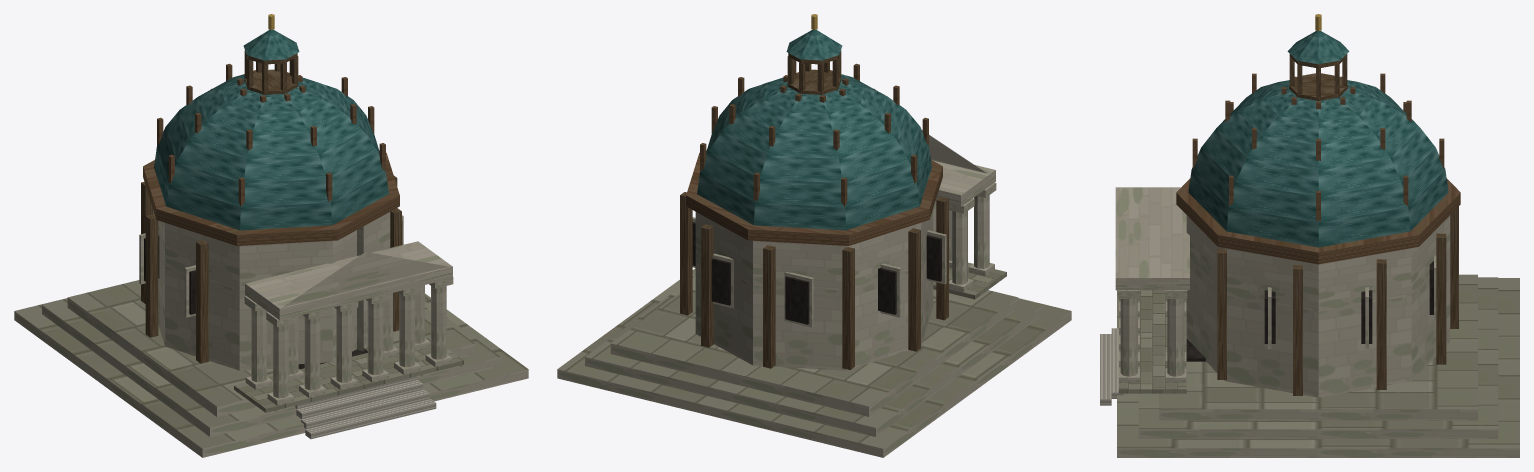
Rendered from ae_forest_dome_temple_lod2.glb.
3 views of the same model, side by side, from view 1: azimuth 30°, elevation 25°; view 2: azimuth 150°, elevation 25°; view 3: azimuth 270°, elevation 25° (orthographic). The views are drawn at different scales.
Visible parts, largest first — view 1: ae_forest_dome_temple_lod2; view 2: ae_forest_dome_temple_lod2; view 3: ae_forest_dome_temple_lod2.
Boxes of the visible parts, x1,y1,x2,y2 form: ae_forest_dome_temple_lod2: [14, 14, 528, 457]; ae_forest_dome_temple_lod2: [557, 14, 1071, 457]; ae_forest_dome_temple_lod2: [1100, 14, 1519, 457].
Size of the model in its own units: 9.87 by 9.66 by 10.29.
Materials: 1 (1 with a texture image).
